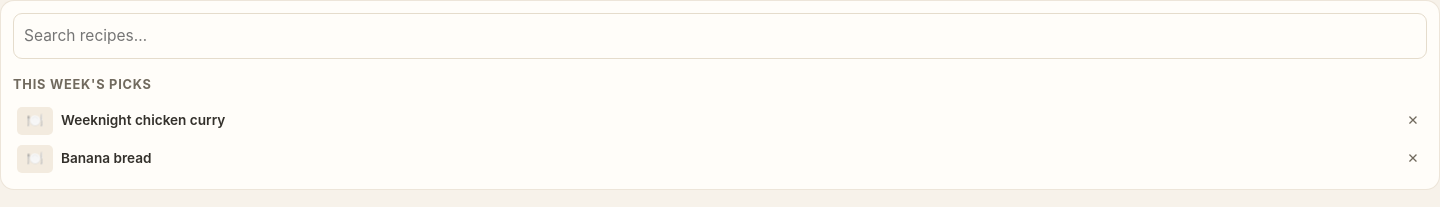
it: PicksPanel › removes a pick without touching the plan
Click the button named "Remove Weeknight chicken curry from picks": (1413, 121) left=1399, top=107, right=1427, bottom=135
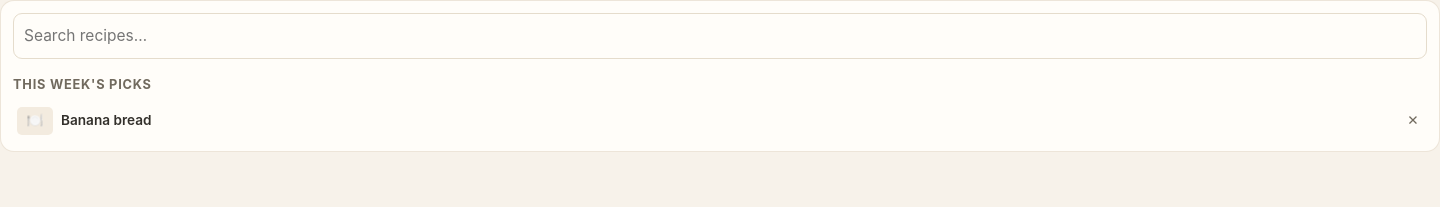
Expected: the text "Banana bread" is shown, left=61, top=112, right=152, bottom=130
Expected: the button "Weeknight chicken curry" is gone
